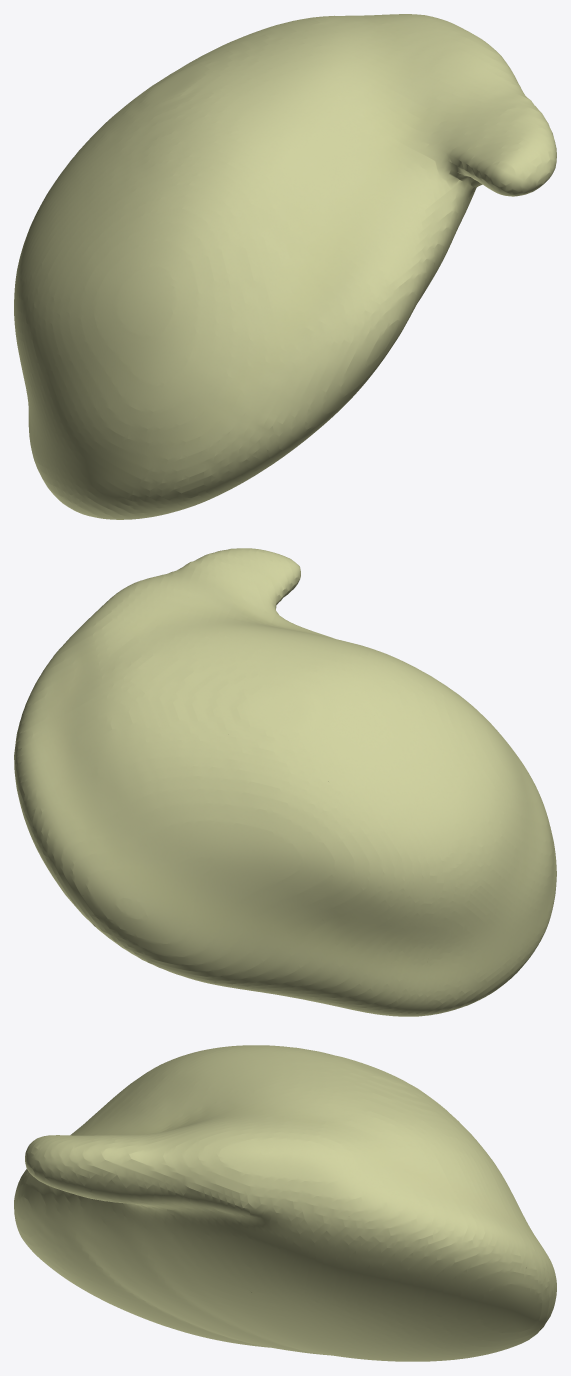
The model's file is cissy-right.gltf.
3 views of the same model, one above another, from view 1: azimuth 30°, elevation 25°; view 2: azimuth 150°, elevation 25°; view 3: azimuth 270°, elevation 25° (orthographic). The views are drawn at different scales.
Visible parts, largest first — view 1: Layer_6; view 2: Layer_6; view 3: Layer_6.
Part boxes in pixels (x1,y1,x2,y2): Layer_6: (14, 14, 556, 519); Layer_6: (14, 548, 556, 1016); Layer_6: (14, 1045, 556, 1361).
Bounding box in the file's own units: 70.61 × 53.8 × 73.17.
Materials: 1 (1 with a texture image).
